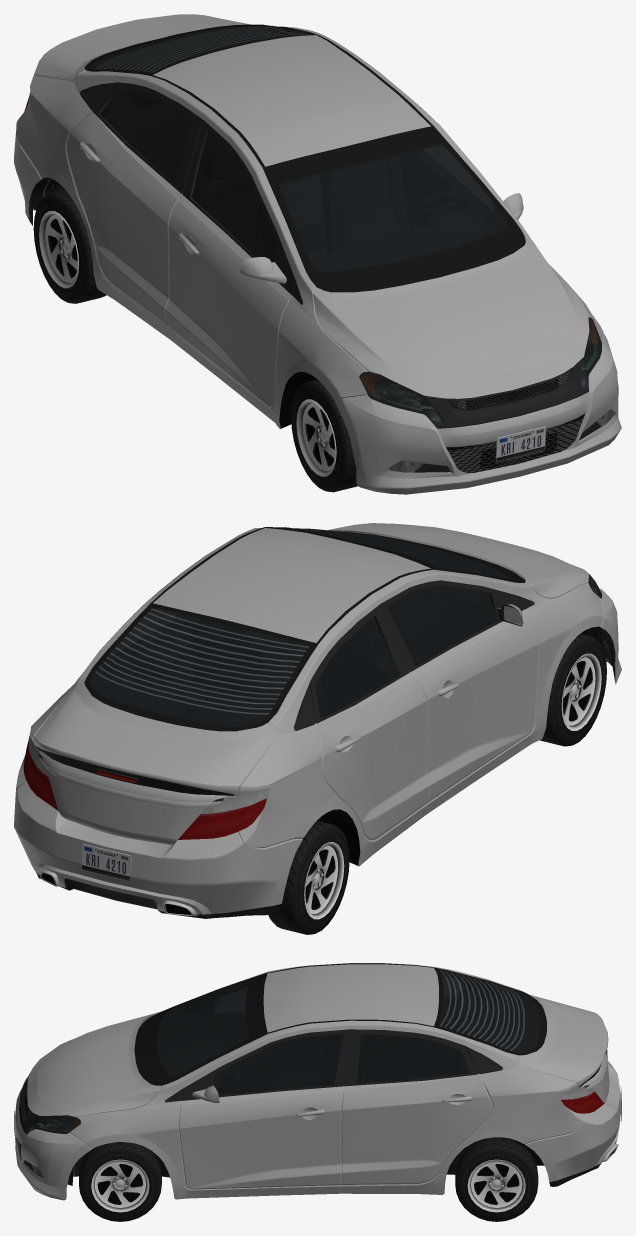
Rendered from kiri10.glb.
3 views of the same model, one above another, from view 1: azimuth 30°, elevation 25°; view 2: azimuth 150°, elevation 25°; view 3: azimuth 270°, elevation 25° (orthographic). The views are drawn at different scales.
Parts seen in each view (by area): view 1: Kiri10_body_Kiri10_bodymat_0, Kiri10_interior_UCB_Interiors_2_0, Kiri10_Hood_Kiri10_bodymat_0, Kiri10_Bottom_UCB_BOTTOM_LT_0, Kiri10_Windshield_UCB_Lights_and_Glass_Transperent_0, Kiri10_bumper_Front_Kiri10_bodymat_0, Kiri10_Bumper_Front_Inner_UCB_BOTTOM_LT_0, Kiri10_Glass_Passenger_UCB_Lights_and_Glass_Transperent_0, Kiri10_WheelStock_RR_RB1c_Tire_1k_0, Kiri10_WheelStock_FR_RB1c_Tire_1k_0, Kiri10_Trunkdoor_Kiri10_bodymat_0, Kiri10_glass_Body_UCB_Lights_and_Glass_Transperent_0 (+7 smaller); view 2: Kiri10_body_Kiri10_bodymat_0, Kiri10_interior_UCB_Interiors_2_0, Kiri10_Trunkdoor_Kiri10_bodymat_0, Kiri10_Glass_Rear_UCB_Lights_and_Glass_Transperent_0, Kiri10_Bumper_Rear_Kiri10_bodymat_0, Kiri10_Bottom_UCB_BOTTOM_LT_0, Kiri10_WheelStock_RR_RB1c_Tire_1k_0, Kiri10_Hood_Kiri10_bodymat_0, Kiri10_glass_Body_UCB_Lights_and_Glass_Transperent_0, Kiri10_Glass_Passenger_UCB_Lights_and_Glass_Transperent_0, Kiri10_WheelStock_FR_RB1c_Tire_1k_0, Kiri10_Taillights_Glass_UCB_Lights_and_Glass_Transperent_0 (+7 smaller); view 3: Kiri10_body_Kiri10_bodymat_0, Kiri10_interior_UCB_Interiors_2_0, Kiri10_Bottom_UCB_BOTTOM_LT_0, Kiri10_Hood_Kiri10_bodymat_0, Kiri10_Windshield_UCB_Lights_and_Glass_Transperent_0, Kiri10_Glass_Rear_UCB_Lights_and_Glass_Transperent_0, Kiri10_WheelStock_RL_RB1c_Tire_1k_0, Kiri10_WheelStock_FL_RB1c_Tire_1k_0, Kiri10_Glass_Driver_UCB_Lights_and_Glass_Transperent_0, Kiri10_Trunkdoor_Kiri10_bodymat_0, Kiri10_glass_Body_UCB_Lights_and_Glass_Transperent_0, Kiri10_Bumper_Rear_Kiri10_bodymat_0 (+7 smaller).
Boxes of the visible parts, x1,y1,x2,y2 form: Kiri10_body_Kiri10_bodymat_0: [16, 27, 603, 428]; Kiri10_interior_UCB_Interiors_2_0: [90, 26, 507, 271]; Kiri10_Hood_Kiri10_bodymat_0: [312, 237, 589, 398]; Kiri10_Bottom_UCB_BOTTOM_LT_0: [30, 25, 601, 428]; Kiri10_Windshield_UCB_Lights_and_Glass_Transperent_0: [279, 145, 507, 272]; Kiri10_bumper_Front_Kiri10_bodymat_0: [335, 334, 621, 494]; Kiri10_Bumper_Front_Inner_UCB_BOTTOM_LT_0: [389, 357, 613, 472]; Kiri10_Glass_Passenger_UCB_Lights_and_Glass_Transperent_0: [192, 130, 278, 262]; Kiri10_WheelStock_RR_RB1c_Tire_1k_0: [33, 190, 106, 303]; Kiri10_WheelStock_FR_RB1c_Tire_1k_0: [291, 379, 357, 492]; Kiri10_Trunkdoor_Kiri10_bodymat_0: [34, 14, 273, 81]; Kiri10_glass_Body_UCB_Lights_and_Glass_Transperent_0: [100, 90, 192, 183]; Kiri10_body_Kiri10_bodymat_0: [16, 528, 603, 866]; Kiri10_interior_UCB_Interiors_2_0: [90, 529, 507, 726]; Kiri10_Trunkdoor_Kiri10_bodymat_0: [34, 678, 277, 844]; Kiri10_Glass_Rear_UCB_Lights_and_Glass_Transperent_0: [89, 607, 309, 726]; Kiri10_Bumper_Rear_Kiri10_bodymat_0: [14, 781, 302, 913]; Kiri10_Bottom_UCB_BOTTOM_LT_0: [30, 527, 601, 915]; Kiri10_WheelStock_RR_RB1c_Tire_1k_0: [268, 820, 349, 934]; Kiri10_Hood_Kiri10_bodymat_0: [327, 523, 589, 598]; Kiri10_glass_Body_UCB_Lights_and_Glass_Transperent_0: [104, 609, 398, 717]; Kiri10_Glass_Passenger_UCB_Lights_and_Glass_Transperent_0: [387, 585, 496, 664]; Kiri10_WheelStock_FR_RB1c_Tire_1k_0: [539, 633, 606, 746]; Kiri10_Taillights_Glass_UCB_Lights_and_Glass_Transperent_0: [23, 734, 269, 839]; Kiri10_body_Kiri10_bodymat_0: [69, 963, 586, 1199]; Kiri10_interior_UCB_Interiors_2_0: [157, 970, 538, 1094]; Kiri10_Bottom_UCB_BOTTOM_LT_0: [25, 963, 618, 1185]; Kiri10_Hood_Kiri10_bodymat_0: [27, 1011, 161, 1117]; Kiri10_Windshield_UCB_Lights_and_Glass_Transperent_0: [156, 981, 249, 1075]; Kiri10_Glass_Rear_UCB_Lights_and_Glass_Transperent_0: [438, 970, 539, 1053]; Kiri10_WheelStock_RL_RB1c_Tire_1k_0: [455, 1138, 538, 1221]; Kiri10_WheelStock_FL_RB1c_Tire_1k_0: [79, 1142, 161, 1221]; Kiri10_Glass_Driver_UCB_Lights_and_Glass_Transperent_0: [214, 1034, 343, 1095]; Kiri10_Trunkdoor_Kiri10_bodymat_0: [517, 989, 609, 1103]; Kiri10_glass_Body_UCB_Lights_and_Glass_Transperent_0: [357, 977, 470, 1083]; Kiri10_Bumper_Rear_Kiri10_bodymat_0: [525, 1061, 620, 1182].
Bounding box in the file's own units: 1.71 × 1.48 × 4.36.
Materials: 7 (6 with a texture image).
